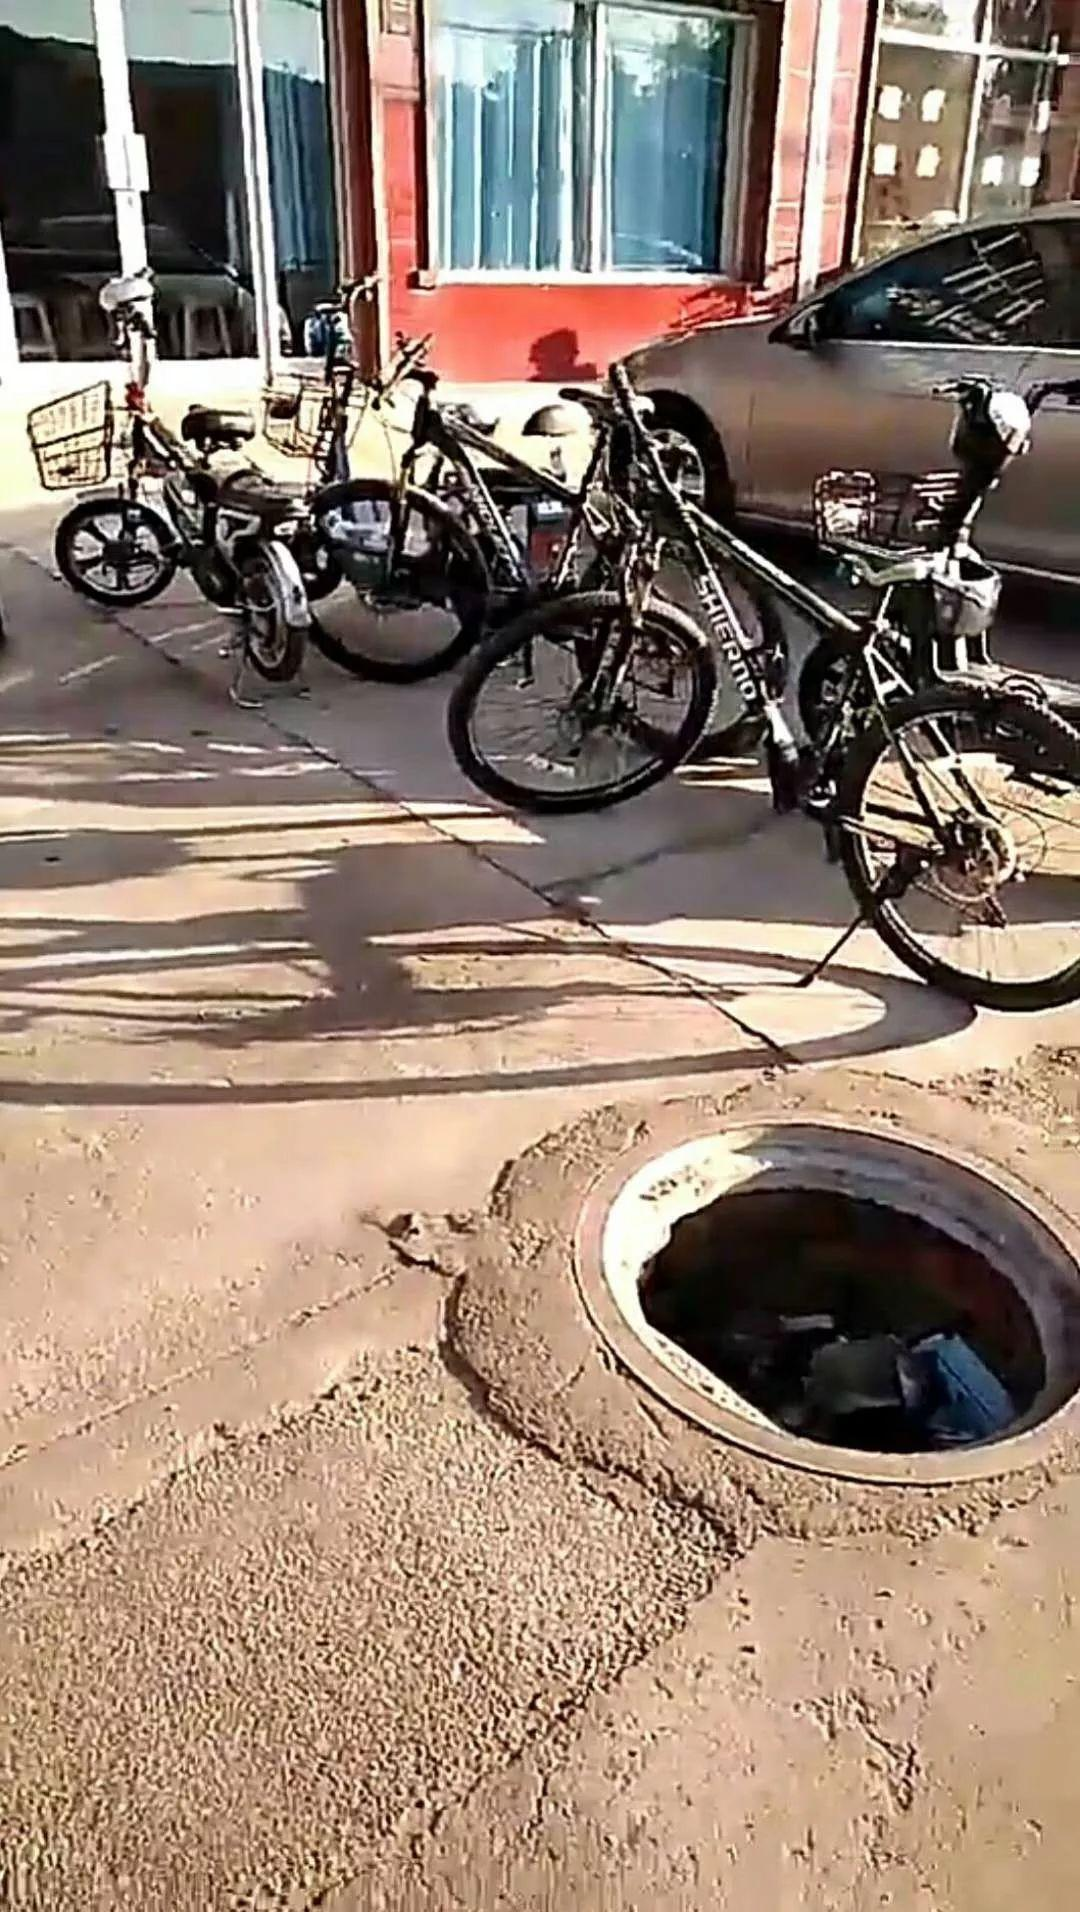wellcover: (501, 1072, 1080, 1479)
